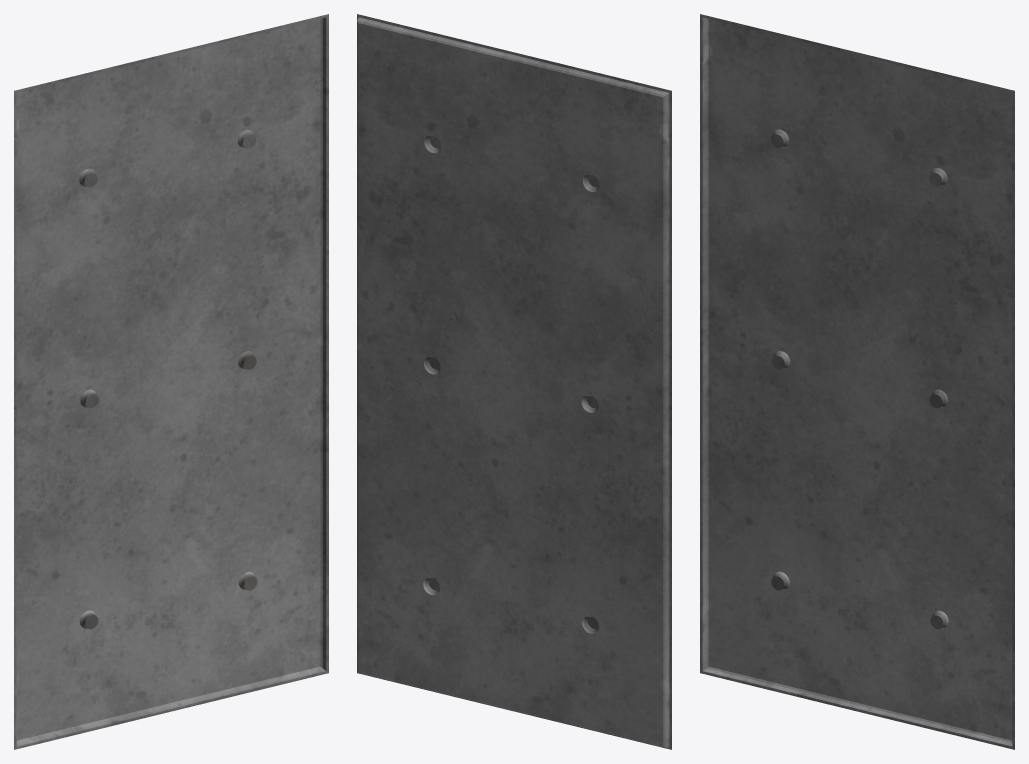
File: SM_Wall_01.fbx
The picture shows the model from 3 angles, left to right: view 1: azimuth 30°, elevation 25°; view 2: azimuth 150°, elevation 25°; view 3: azimuth 330°, elevation 25°; orthographic projection.
Parts seen in each view (by area): view 1: SM_Wall_01; view 2: SM_Wall_01; view 3: SM_Wall_01.
Boxes of the visible parts, <box> form: SM_Wall_01: <box>14,14,328,749</box>; SM_Wall_01: <box>357,14,671,749</box>; SM_Wall_01: <box>700,14,1014,749</box>.
Size of the model in its own units: 100 by 200 by 1.98.
